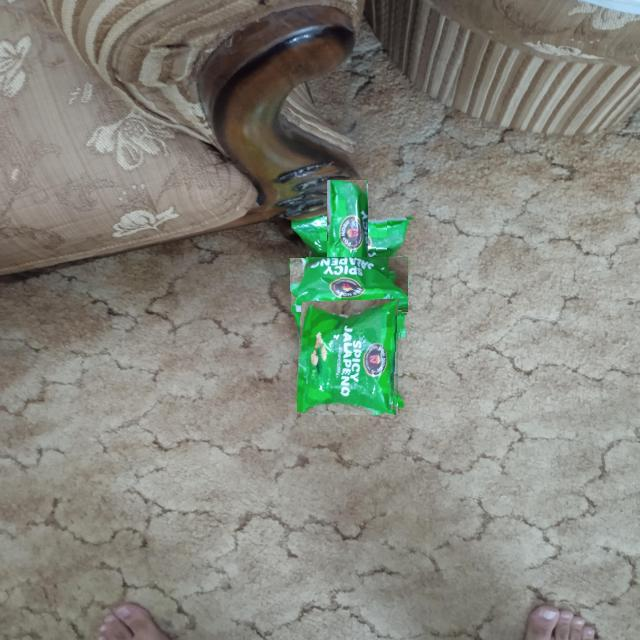Plastic: (297, 306, 402, 412), (289, 257, 408, 312), (308, 198, 387, 277)
